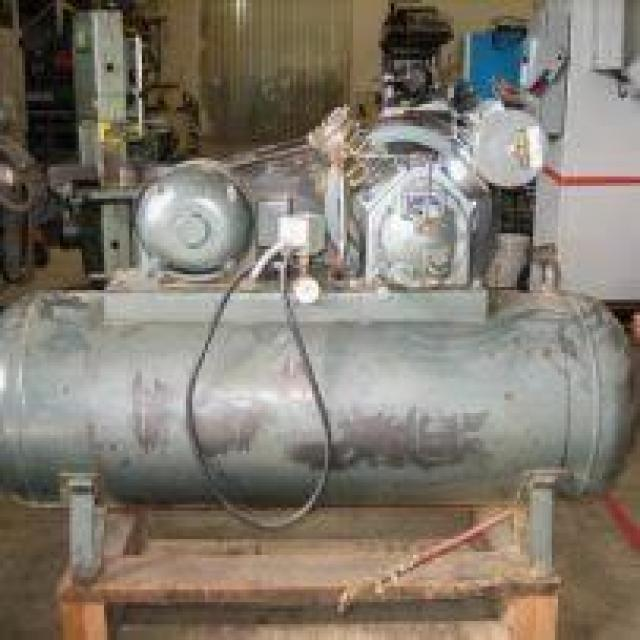compressor: (0, 13, 640, 543)
corrosion detected: (0, 265, 637, 514), (356, 158, 479, 290), (129, 154, 259, 278), (271, 208, 328, 306)
